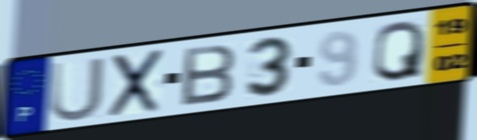3: (244, 34, 294, 100)
9: (316, 29, 363, 89)
B: (180, 42, 239, 108)
Q: (370, 17, 426, 83)
U: (48, 54, 107, 124)
X: (106, 46, 167, 120)
